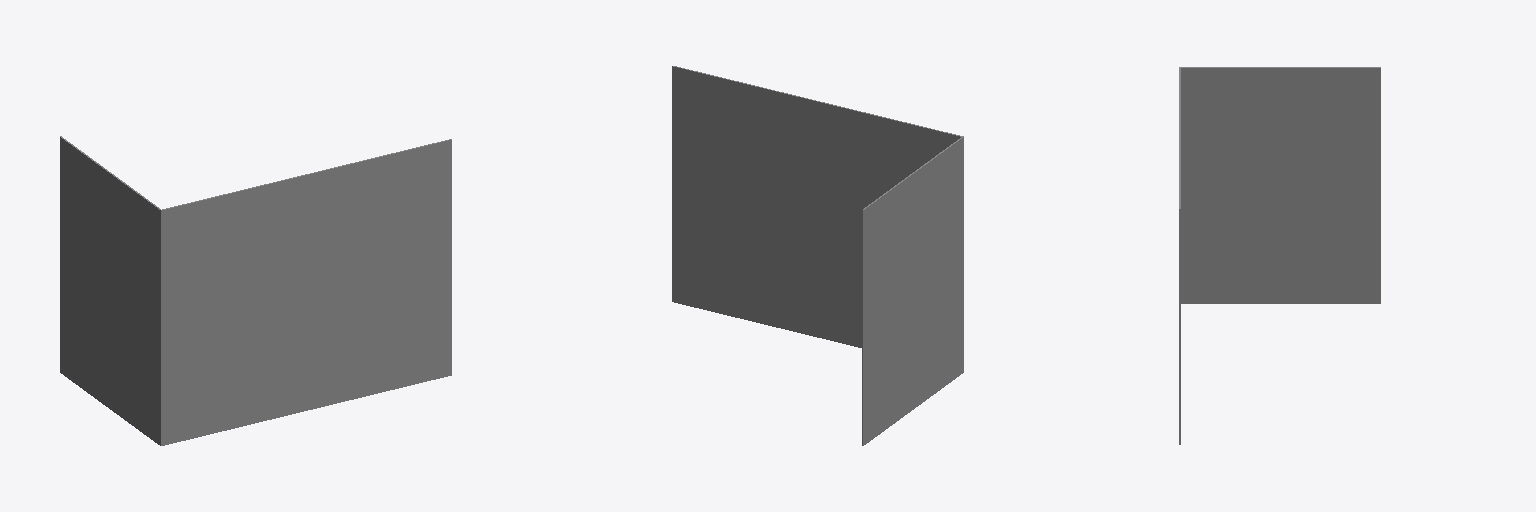
The model's file is twoArmas.obj.
The picture shows the model from 3 angles: view 1: azimuth 30°, elevation 25°; view 2: azimuth 150°, elevation 25°; view 3: azimuth 270°, elevation 25°; orthographic projection.
Size of the model in its own units: 9.42 by 7.29 by 5.67.